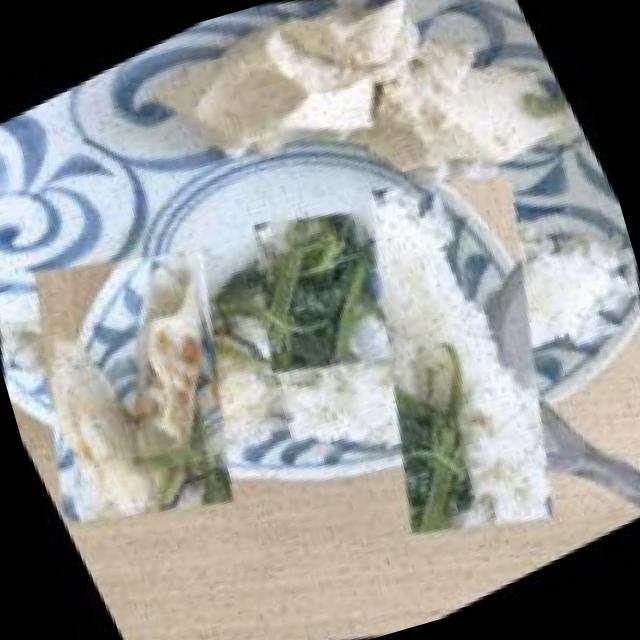fried_dumplings: (0, 188, 329, 569)
rice: (233, 126, 640, 581)
water_spinach: (198, 163, 452, 417)
